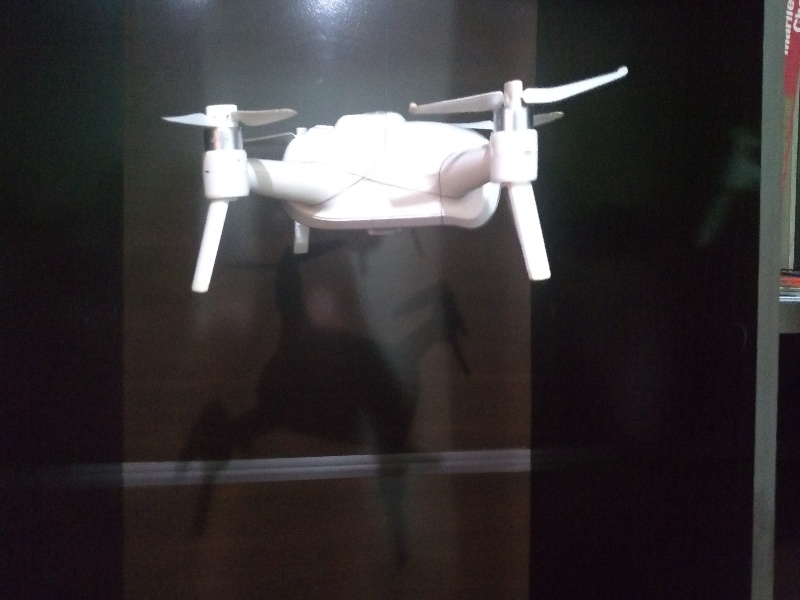drone: (160, 51, 631, 287)
